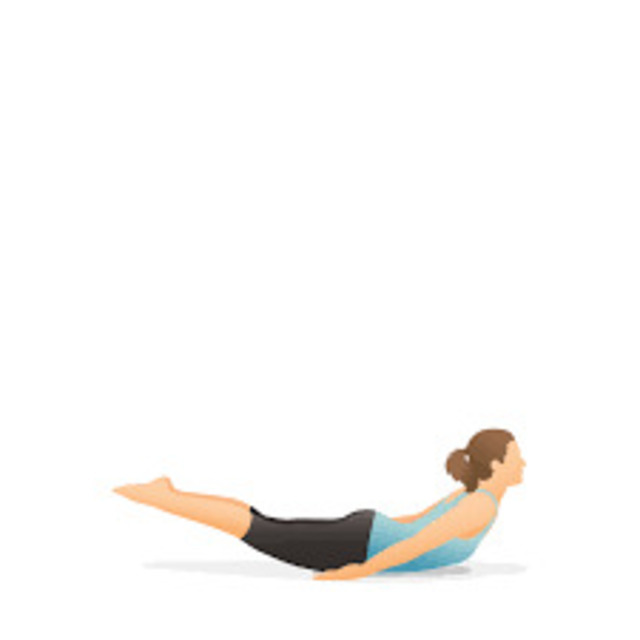Locust_Pose: (120, 427, 530, 582)
